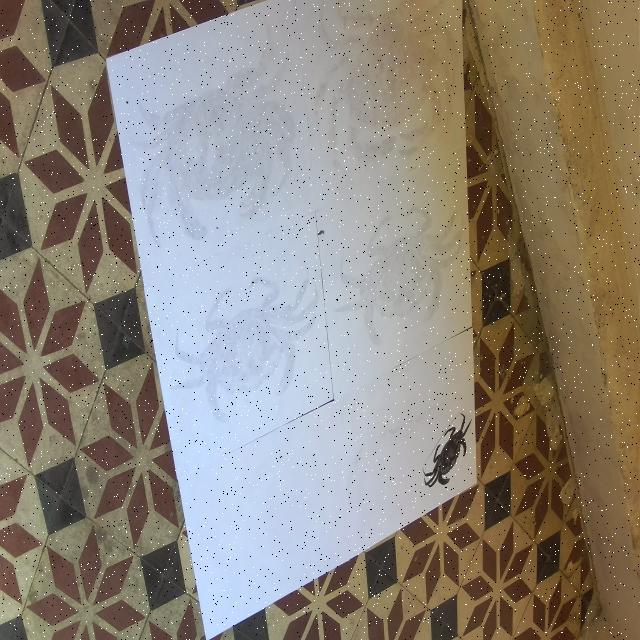European_Green_Crab: (419, 404, 480, 504)
